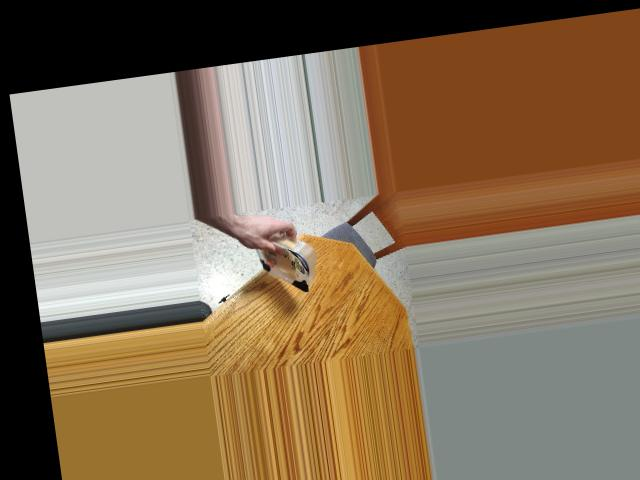cheese: (236, 231, 326, 297)
